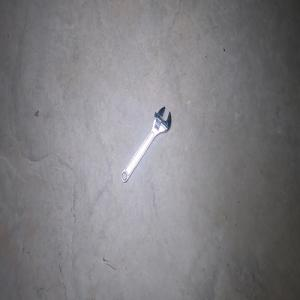Wrench: (120, 106, 171, 183)
